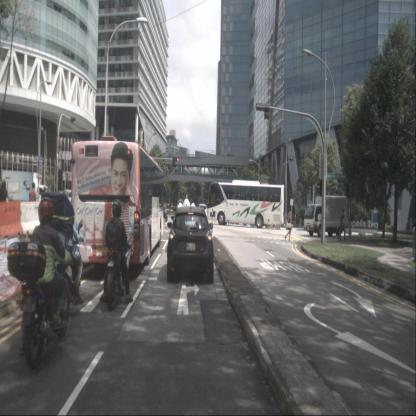human-pedestrian-adult: (0, 181, 9, 225), (29, 182, 37, 222), (285, 209, 292, 242), (339, 209, 346, 241), (409, 217, 413, 231), (299, 215, 302, 230), (293, 213, 296, 224), (296, 212, 298, 224)
movable_object-barrier: (20, 200, 51, 237), (0, 201, 23, 241)
vehicle-bus-rigid: (72, 141, 164, 266), (206, 180, 284, 228)
vehicle-car: (167, 207, 214, 281)
vehicle-motorcycle: (7, 196, 81, 369), (41, 192, 85, 310), (99, 199, 135, 311), (158, 204, 168, 222)
vehicle-truck: (1, 170, 51, 221), (304, 196, 348, 238)
